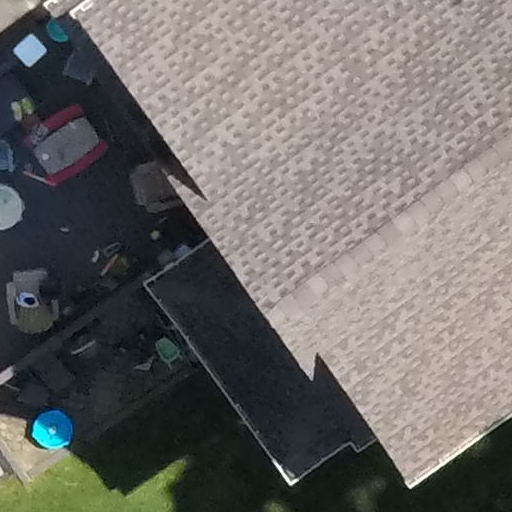container: (40, 11, 80, 46), (9, 33, 47, 66)
toy: (16, 408, 77, 455)
